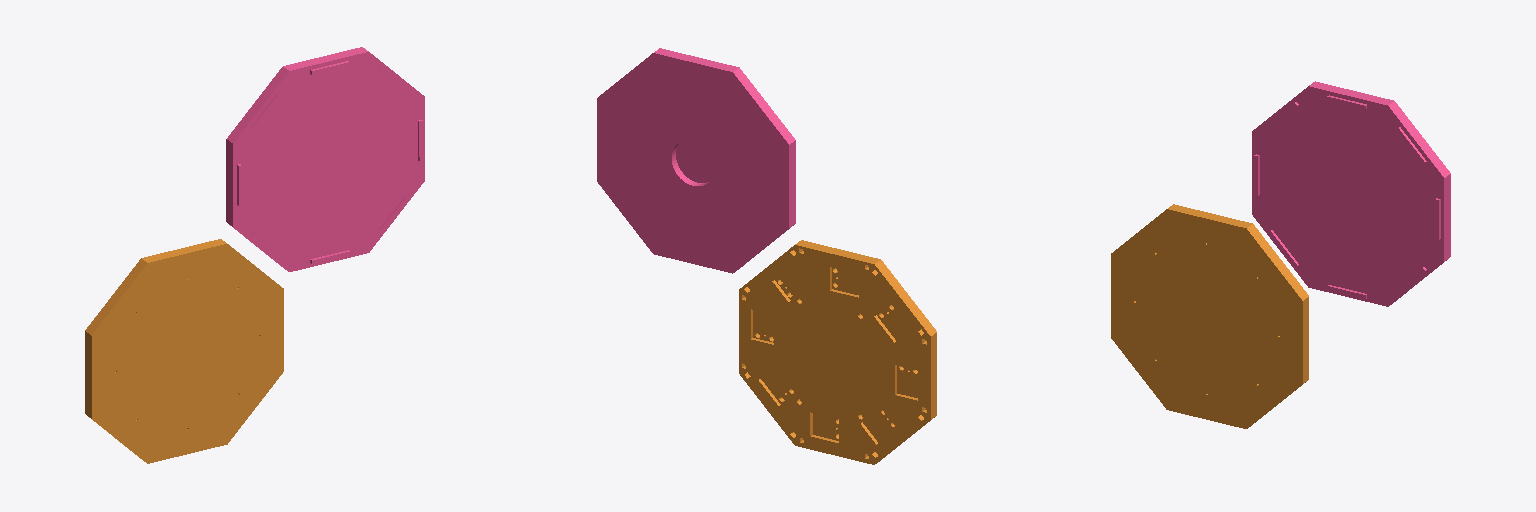
Rendered from tinker.obj.
The picture shows the model from 3 angles: view 1: azimuth 30°, elevation 25°; view 2: azimuth 150°, elevation 25°; view 3: azimuth 330°, elevation 25°; orthographic projection.
Visible parts, largest first — view 1: obj_0; view 2: obj_0; view 3: obj_0.
Boxes of the visible parts, x1=… form: obj_0: x1=85, y1=47, x2=424, y2=463; obj_0: x1=597, y1=48, x2=936, y2=464; obj_0: x1=1111, y1=81, x2=1450, y2=428.
Size of the model in its own units: 191 by 196 by 8.24.